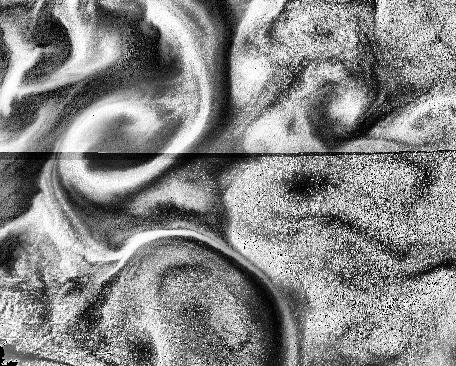AE: (60, 93, 173, 195)
